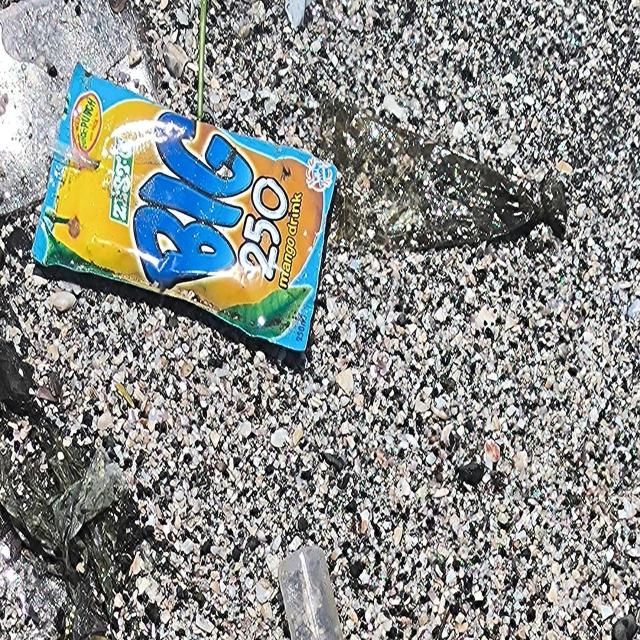plastic_waste: (31, 59, 340, 353)
